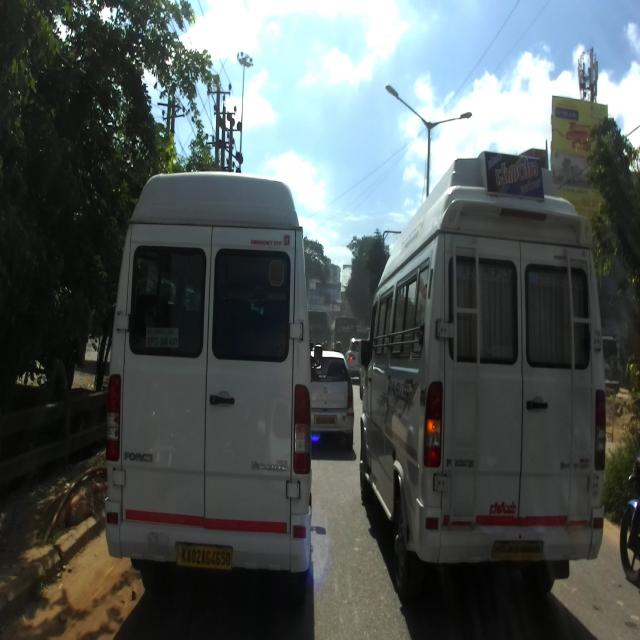Car_TATA: (309, 346, 354, 457)
mini-bus: (359, 149, 606, 603), (104, 170, 323, 609)
